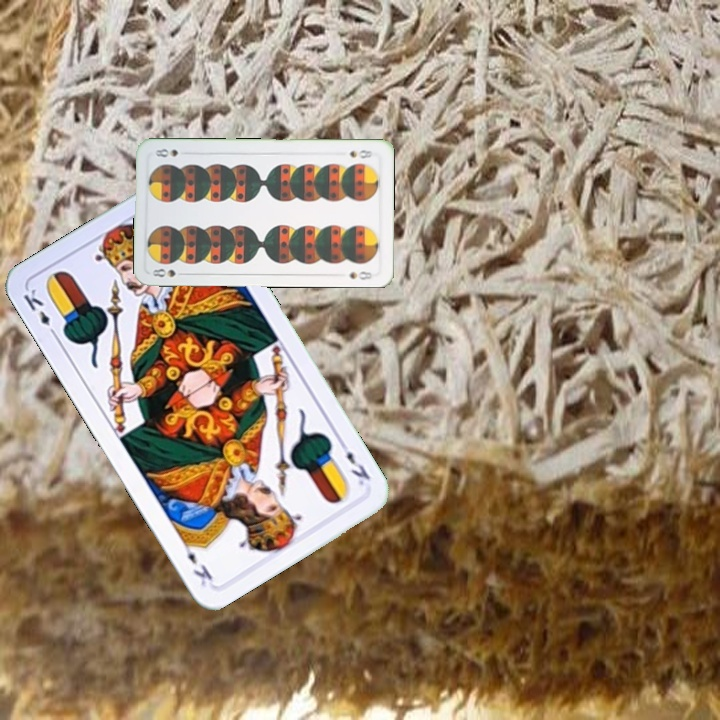EK: (19, 284, 60, 340), (334, 435, 373, 488)
S8: (149, 265, 189, 280), (345, 146, 377, 161)
